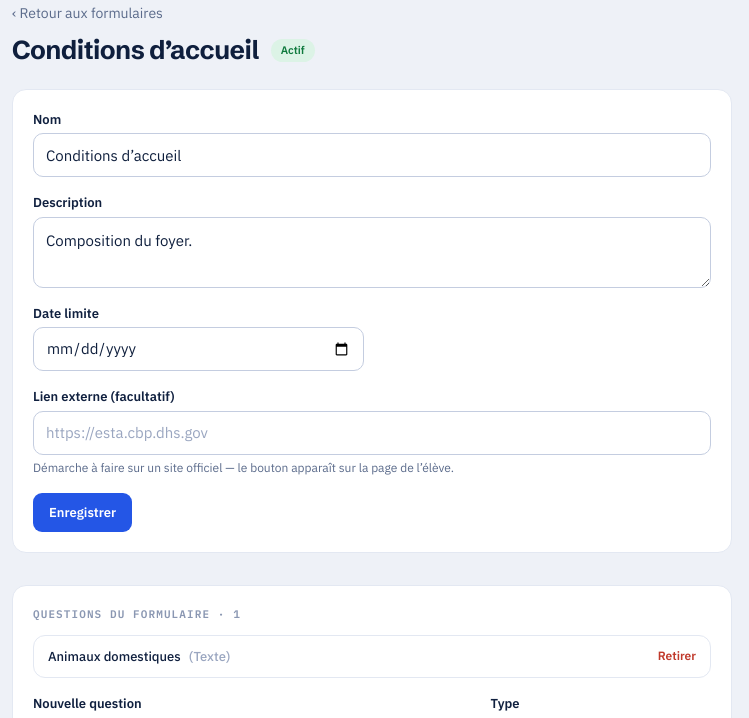
Test case: TemplateEditor › shows the structured save error inline
The image size is (749, 718).
Click the button "Enregistrer".
click(83, 512)  # box x1=33 y1=493 x2=132 y2=532
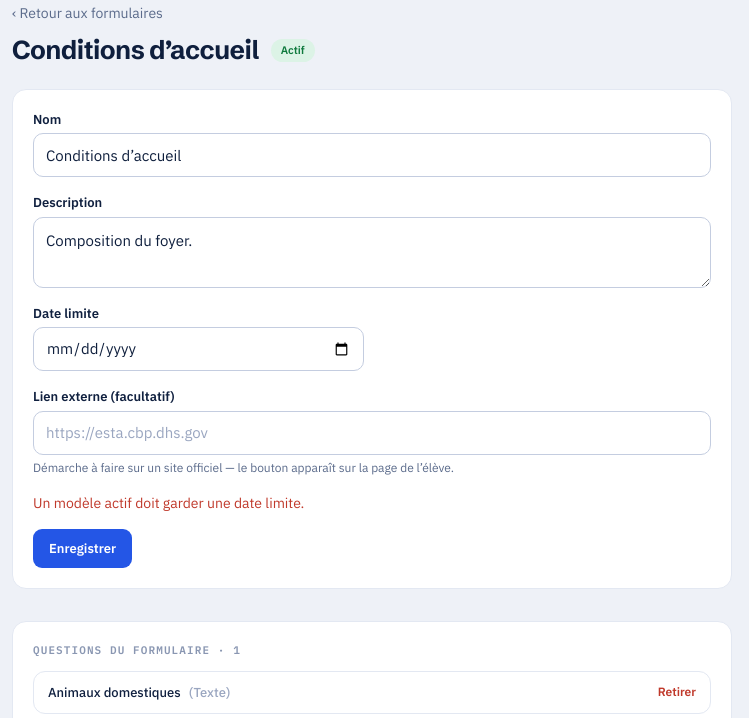
Check: the text "Un modèle actif doit garder une date limite." is shown, box x1=33 y1=494 x2=304 y2=512
